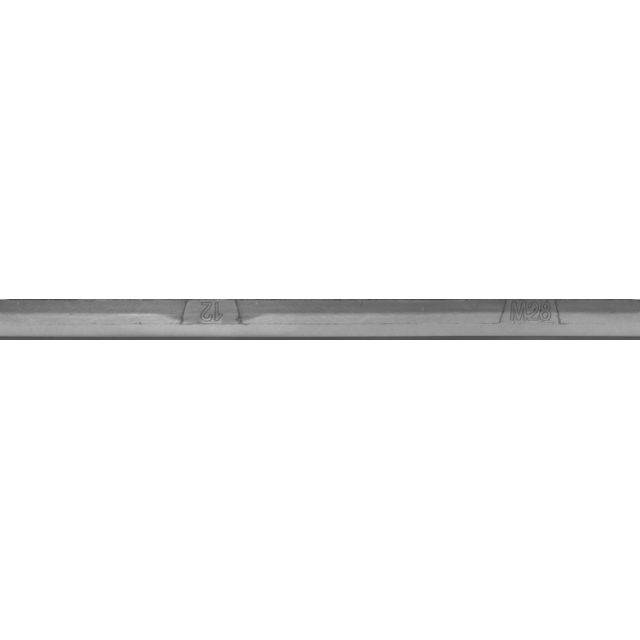mohao: (437, 270, 637, 370)
xuehao: (111, 270, 311, 370)
